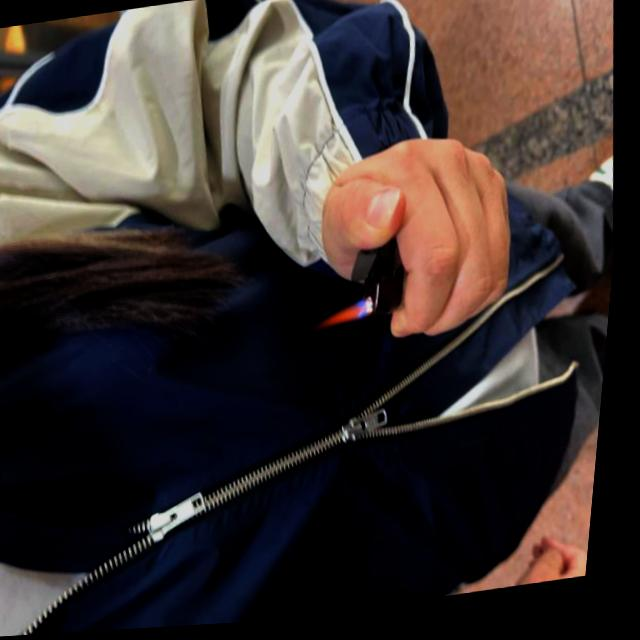Fire: (320, 298, 372, 334)
